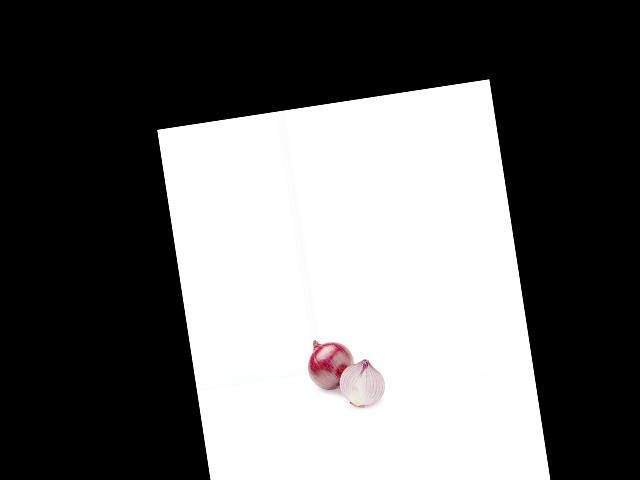onion: (339, 356, 386, 408)
